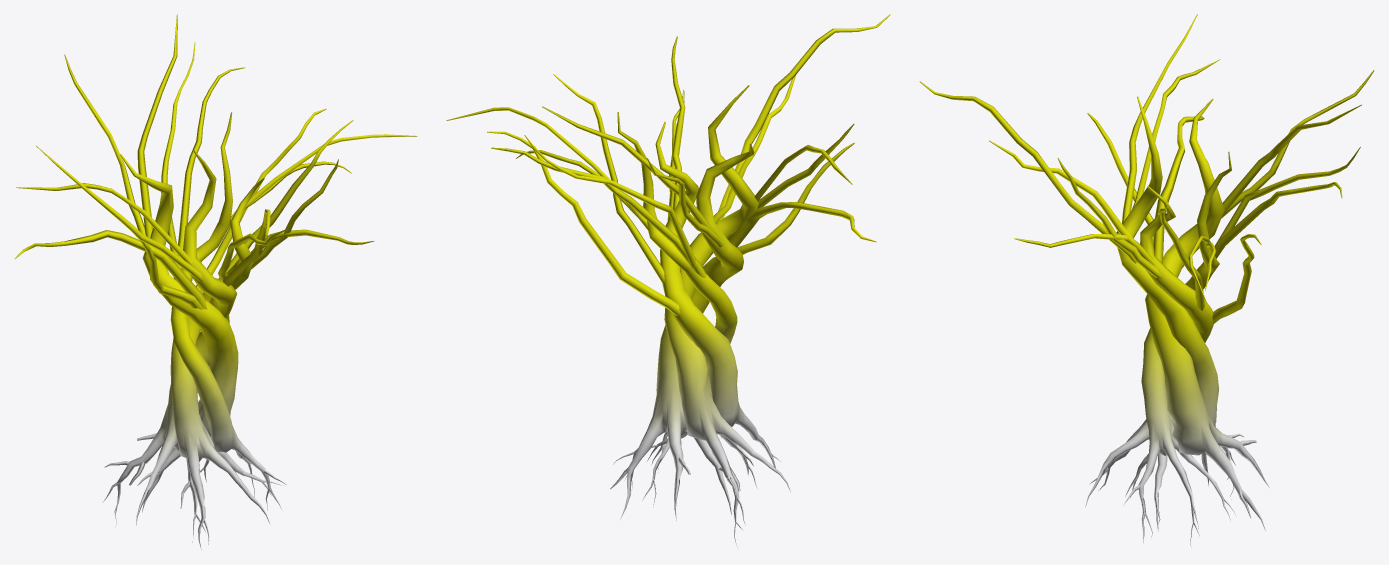
The model's file is Deadtree12.fbx.
3 renders of one model, left to right at view 1: azimuth 30°, elevation 25°; view 2: azimuth 150°, elevation 25°; view 3: azimuth 270°, elevation 25°, orthographic. The views are drawn at different scales.
Visible parts, largest first — view 1: Deadtree12_LOD0; view 2: Deadtree12_LOD0; view 3: Deadtree12_LOD0.
Part boxes in pixels (x1=…): Deadtree12_LOD0: x1=14, y1=14, x2=417, y2=550; Deadtree12_LOD0: x1=446, y1=14, x2=890, y2=546; Deadtree12_LOD0: x1=919, y1=14, x2=1374, y2=547.
Size of what is drawn, in the model's own units: 1147 by 1184 by 1062.
